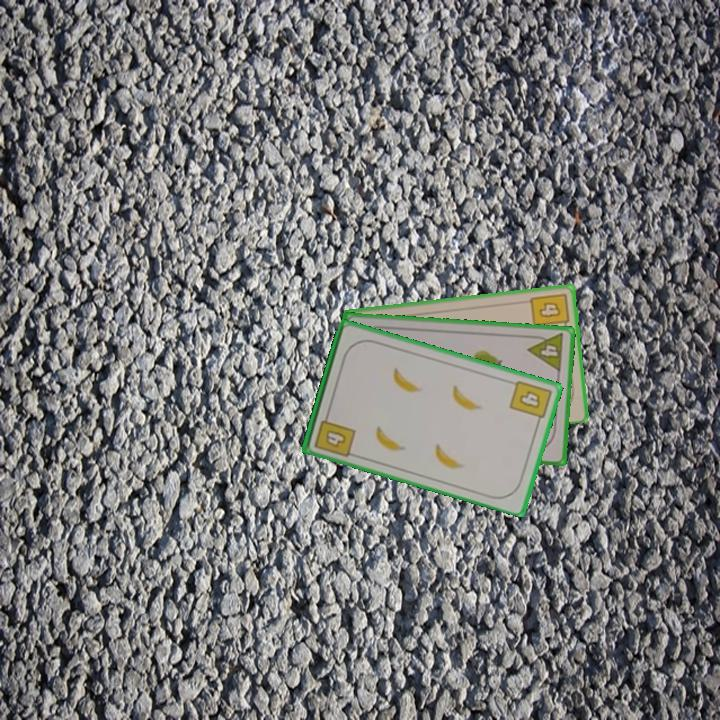4b: (506, 377, 554, 428), (311, 408, 358, 460), (527, 289, 572, 333)
4p: (525, 330, 567, 374)
